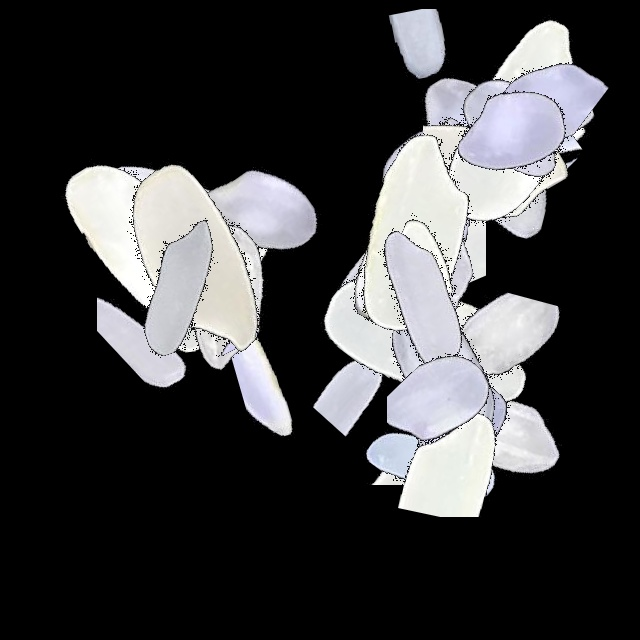Broken: (463, 55, 632, 305), (259, 91, 509, 259), (423, 18, 587, 268), (440, 0, 600, 250), (414, 246, 574, 496), (387, 305, 546, 555), (390, 0, 640, 158), (368, 307, 525, 557), (435, 288, 577, 538), (327, 375, 577, 517), (97, 178, 236, 428), (390, 104, 640, 238), (248, 307, 498, 439), (226, 204, 356, 454), (297, 9, 547, 131), (376, 114, 486, 364), (390, 93, 640, 197), (400, 259, 499, 509), (475, 0, 572, 250), (245, 314, 495, 410), (359, 151, 451, 401), (290, 394, 540, 485), (328, 444, 578, 533), (326, 205, 576, 292), (173, 187, 257, 437)
Full: (260, 137, 510, 387), (385, 0, 635, 250), (93, 159, 343, 409), (50, 71, 300, 321), (390, 5, 640, 255), (370, 305, 620, 555), (309, 340, 559, 590), (58, 134, 308, 384), (350, 0, 600, 250), (305, 217, 555, 467), (18, 119, 268, 369), (306, 100, 556, 350), (329, 307, 579, 557), (318, 252, 568, 502), (281, 93, 531, 343), (134, 89, 384, 339), (390, 0, 640, 250), (305, 121, 555, 371), (101, 170, 351, 420), (291, 109, 541, 359), (71, 139, 321, 389), (294, 178, 544, 428), (53, 163, 303, 413)
